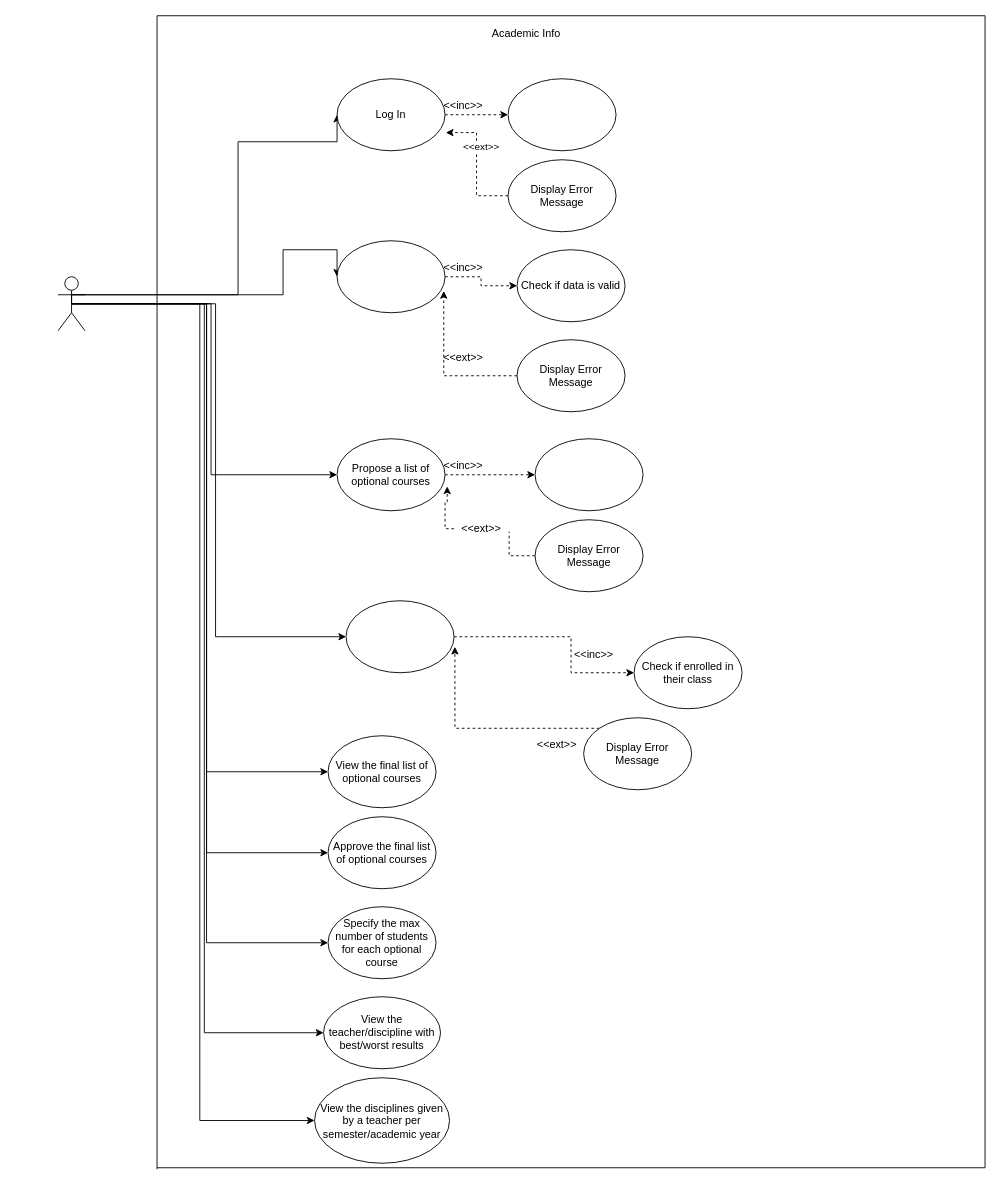
Some shapes in this 1002 by 1186 pixel diagram are drawn without their labels. The shapes that lost their labels are listed below. From the top down, each one's centre as x and y in pixels, then its label:
At [561,114]: "Verify password".
At [390,276]: "Upload information".
At [71,303]: "Chief of the department".
At [588,474]: "Check if they are maximum 2".
At [399,636]: "Add grades to student".
